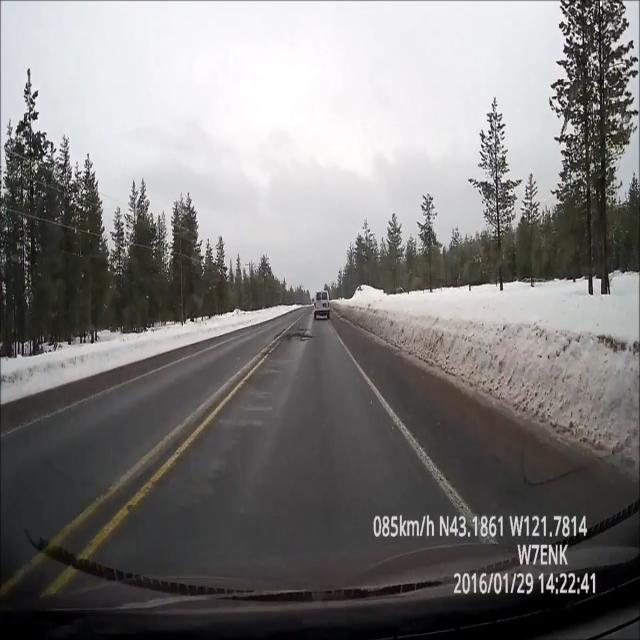Pothole: (283, 316, 314, 345)
